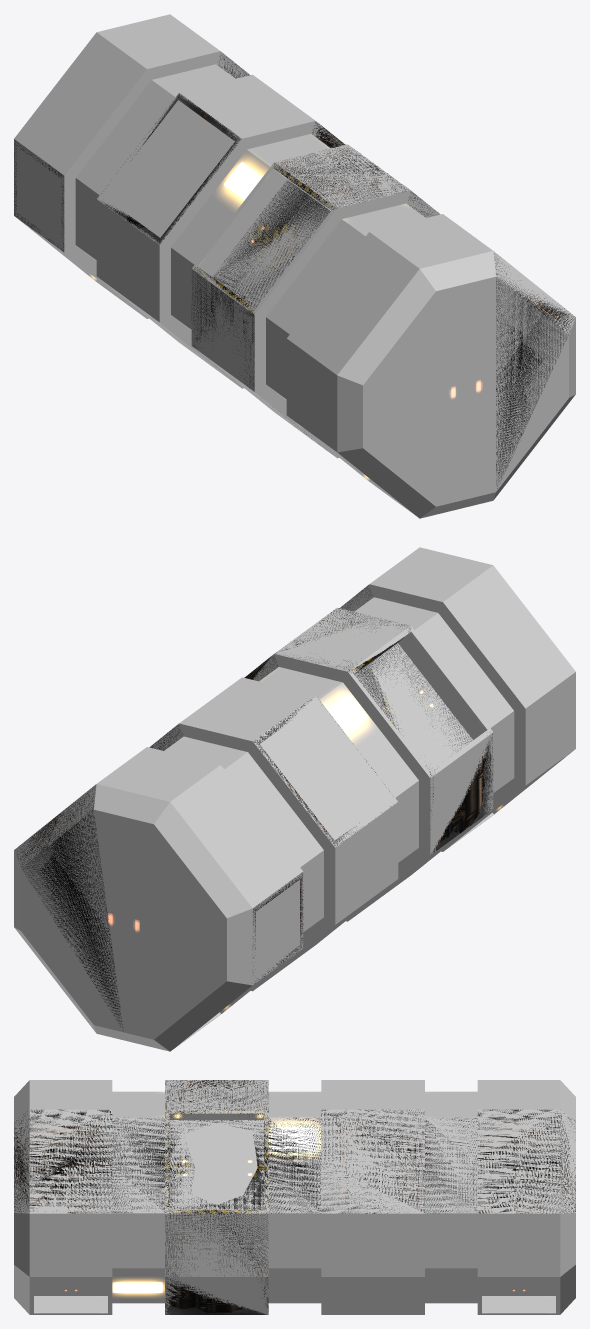
Rendered from Station_Connector03.fbx.
3 views of the same model, one above another, from view 1: azimuth 30°, elevation 25°; view 2: azimuth 150°, elevation 25°; view 3: azimuth 270°, elevation 25° (orthographic). The views are drawn at different scales.
Visible parts, largest first — view 1: Station_Connector03_1, Station_Connector03_2; view 2: Station_Connector03_1, Station_Connector03_2; view 3: Station_Connector03_1, Station_Connector03_2.
Boxes of the visible parts, left/top/right/bottom form: Station_Connector03_1: left=14, top=14, right=575, bottom=518; Station_Connector03_2: left=14, top=54, right=575, bottom=488; Station_Connector03_1: left=14, top=547, right=575, bottom=1051; Station_Connector03_2: left=14, top=585, right=493, bottom=1030; Station_Connector03_1: left=14, top=1080, right=575, bottom=1314; Station_Connector03_2: left=14, top=1080, right=575, bottom=1314.
Size of the model in its own units: 18.21 by 18.21 by 45.2.
